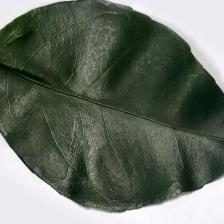healthy: (2, 2, 224, 204)
